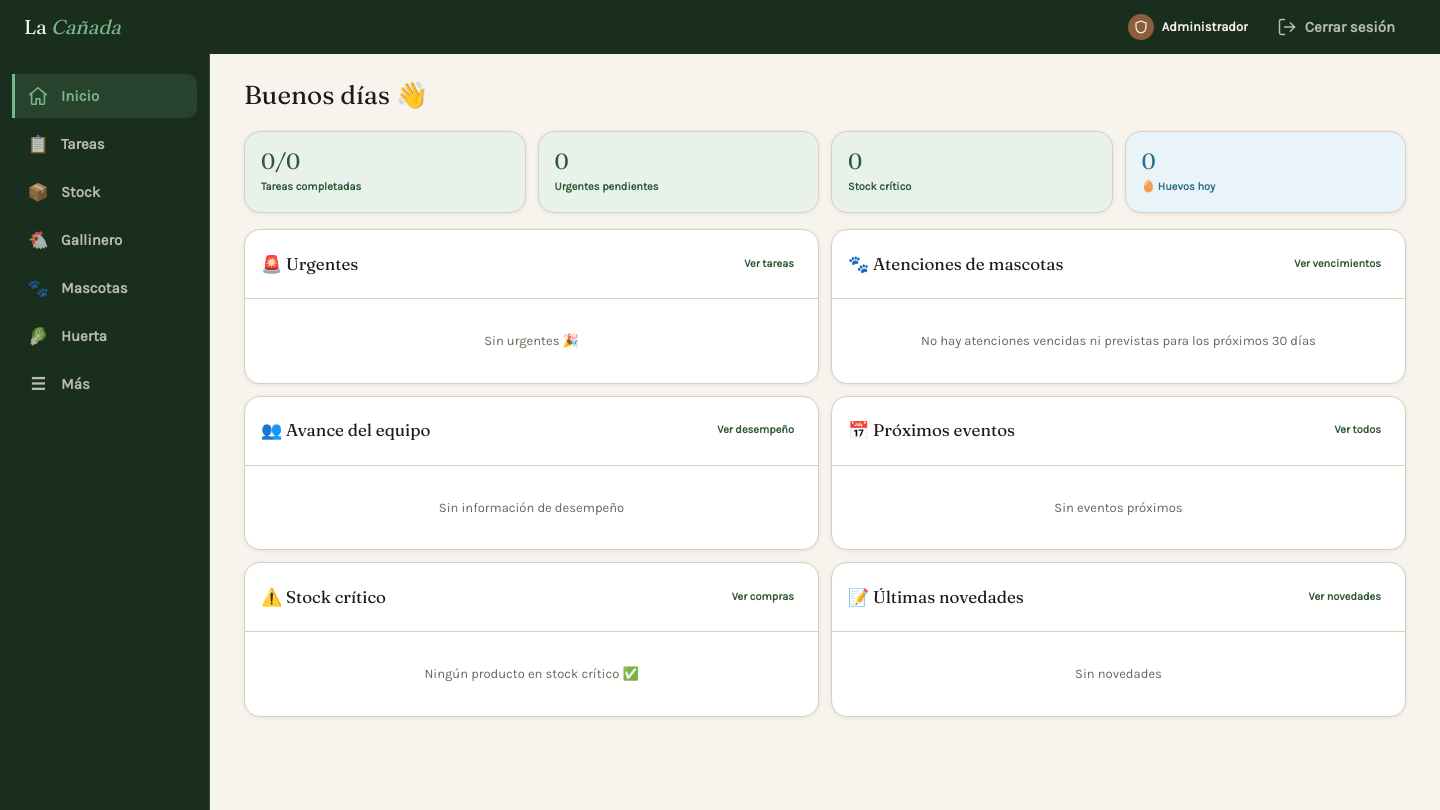
Test: navegación SPA — la sesión se restaura una sola vez por documento › el historial de la semana actual se pide una sola vez aunque lo usen dos componentes
The image size is (1440, 810).
Check: the heading "Buenos días 👋" is shown, box [244,80,428,111]
Click the link "📋 Tareas". click: (66, 144)
box: [27,134,105,154]
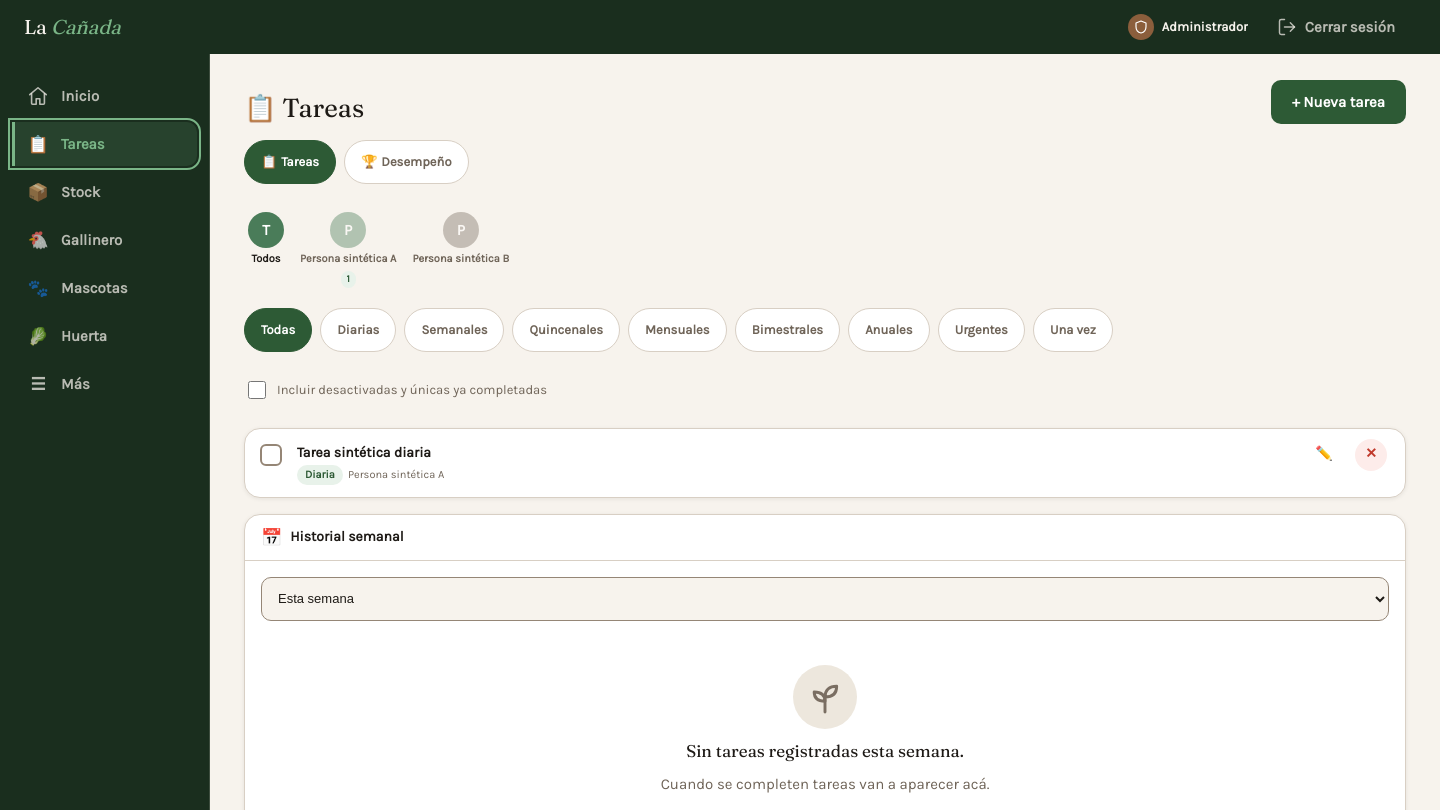
Check: the list named "Tareas del período" is shown, box [245,428,1405,497]
